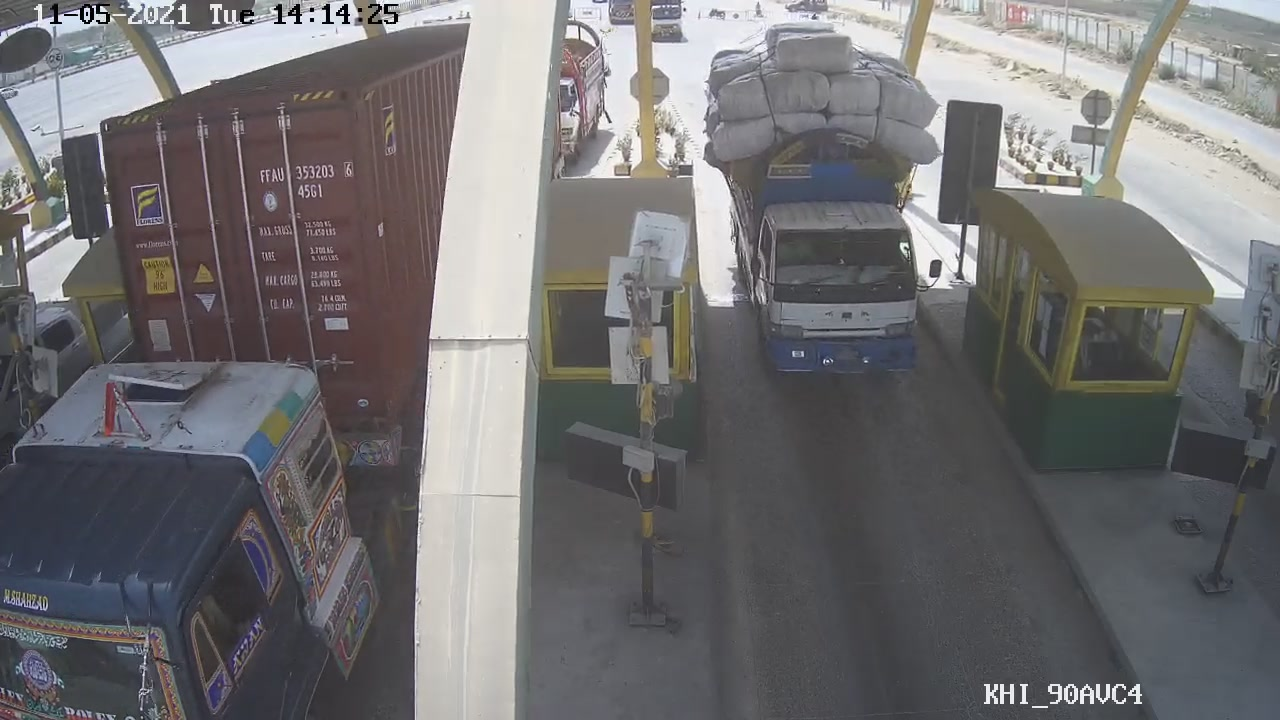F5: (704, 84, 959, 404)
